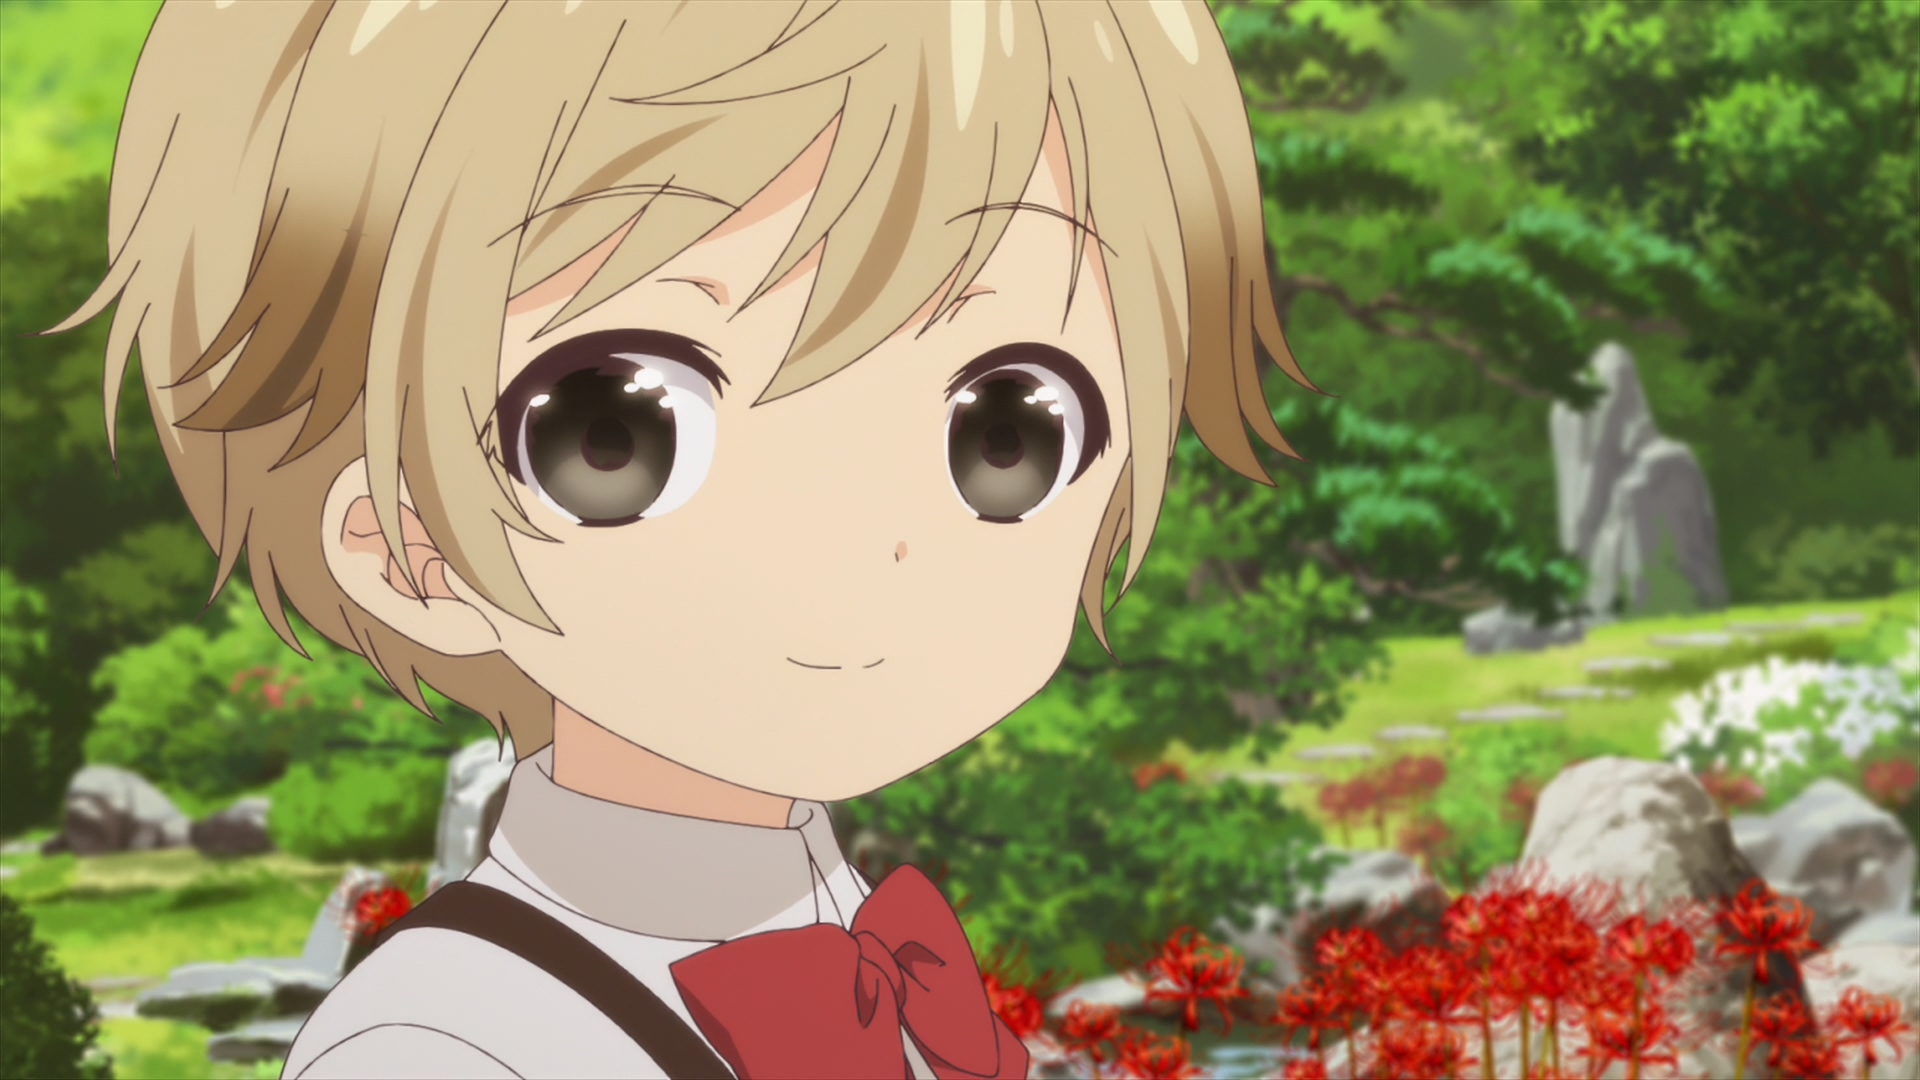其他: (17, 1, 1341, 1080)
